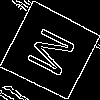M: (25, 25, 85, 84)
